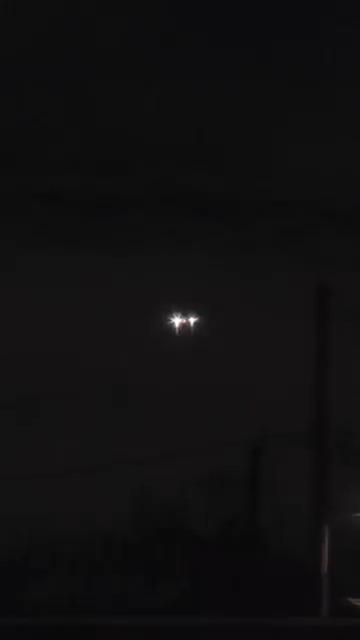Plane: (147, 270, 218, 362)
